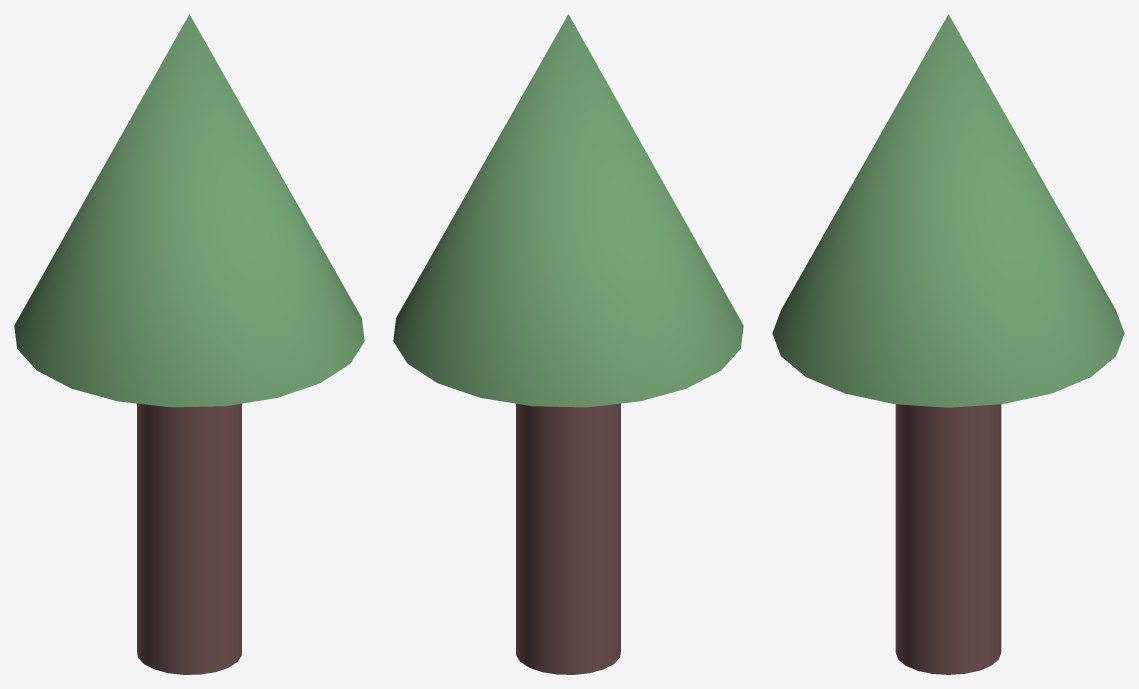
File: SM_Tree_2x4.fbx
3 views of the same model, side by side, from view 1: azimuth 30°, elevation 25°; view 2: azimuth 150°, elevation 25°; view 3: azimuth 270°, elevation 25° (orthographic).
Parts seen in each view (by area): view 1: SM_Tree_2x4m; view 2: SM_Tree_2x4m; view 3: SM_Tree_2x4m.
Part boxes in pixels (box(x1,y1,x2,y2)): SM_Tree_2x4m: box(14, 14, 364, 674); SM_Tree_2x4m: box(393, 14, 743, 674); SM_Tree_2x4m: box(772, 14, 1124, 674).
Size of the model in its own units: 200 by 400 by 200.
